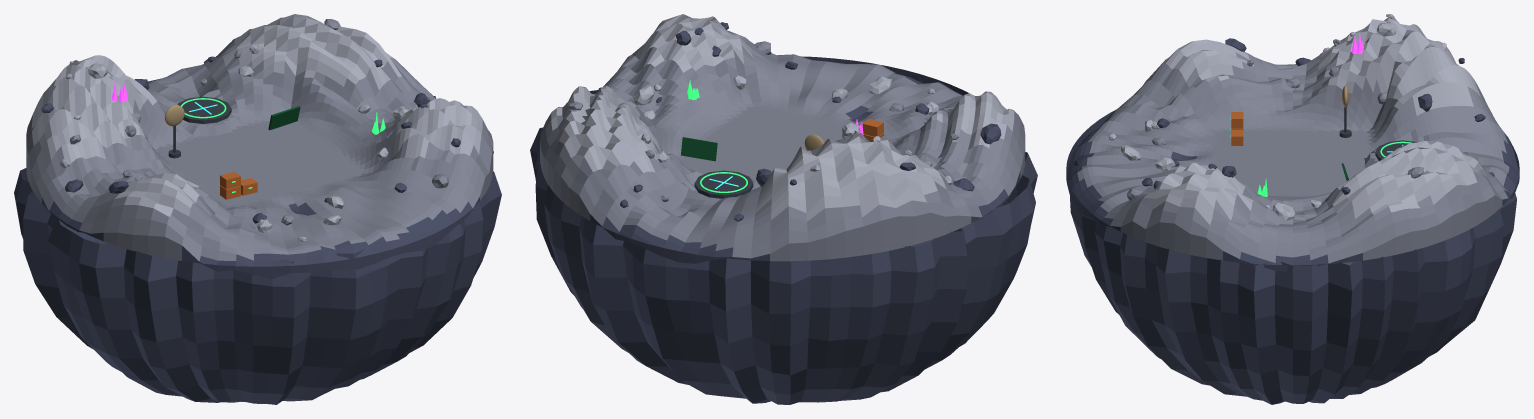
Rendered from Mateo3.glb.
3 renders of one model, left to right at view 1: azimuth 30°, elevation 25°; view 2: azimuth 150°, elevation 25°; view 3: azimuth 270°, elevation 25°, orthographic. The views are drawn at different scales.
Visible parts, largest first — view 1: SUPERFICIE_LUNAR, CUERPO_LUNA_K04, PLATAFORMA, PANEL_SOLAR; view 2: SUPERFICIE_LUNAR, CUERPO_LUNA_K04, PLATAFORMA, PANEL_SOLAR; view 3: SUPERFICIE_LUNAR, CUERPO_LUNA_K04.
Part boxes in pixels (x1=…): SUPERFICIE_LUNAR: x1=26, y1=14, x2=493, y2=278; CUERPO_LUNA_K04: x1=14, y1=96, x2=501, y2=404; PLATAFORMA: x1=177, y1=96, x2=231, y2=123; PANEL_SOLAR: x1=268, y1=106, x2=300, y2=130; SUPERFICIE_LUNAR: x1=540, y1=14, x2=1025, y2=263; CUERPO_LUNA_K04: x1=530, y1=75, x2=1037, y2=404; PLATAFORMA: x1=694, y1=170, x2=753, y2=198; PANEL_SOLAR: x1=681, y1=137, x2=717, y2=161; SUPERFICIE_LUNAR: x1=1066, y1=17, x2=1519, y2=271; CUERPO_LUNA_K04: x1=1070, y1=131, x2=1516, y2=404.
Size of the model in its own units: 30.6 by 21.81 by 28.9.
